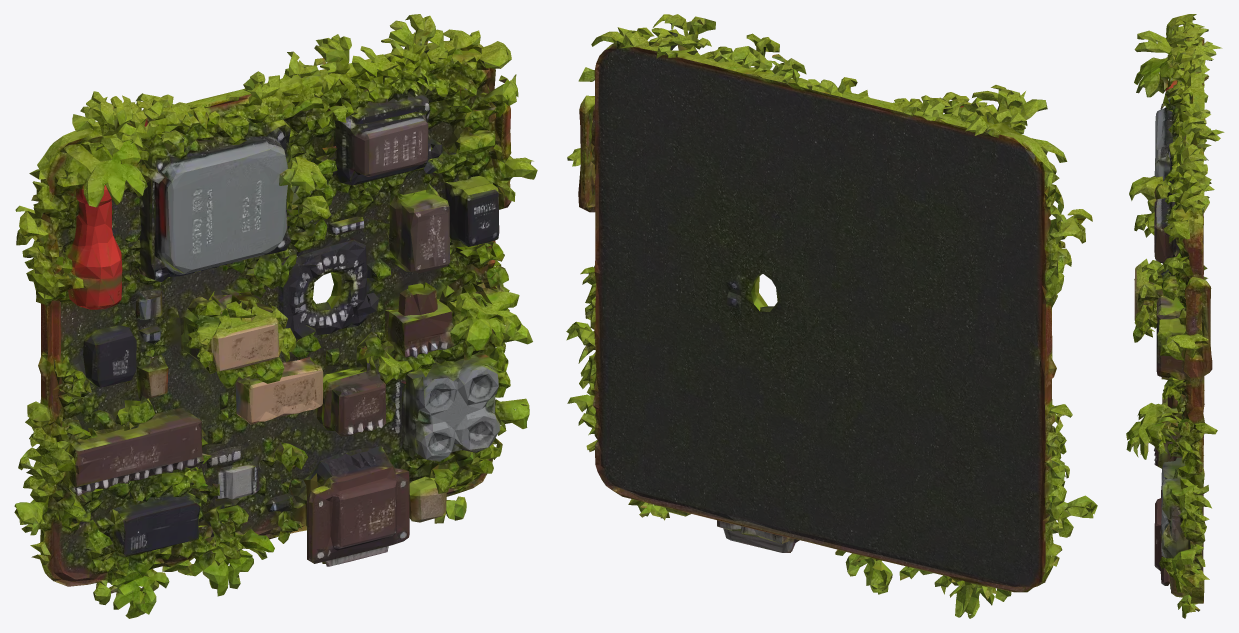
File: head (226).glb
3 views of the same model, side by side, from view 1: azimuth 30°, elevation 25°; view 2: azimuth 150°, elevation 25°; view 3: azimuth 270°, elevation 25° (orthographic). The views are drawn at different scales.
Parts seen in each view (by area): view 1: Hy21_Mesh.obj; view 2: Hy21_Mesh.obj; view 3: Hy21_Mesh.obj.
Boxes of the visible parts, box(x1,y1,x2,y2) form: Hy21_Mesh.obj: box(14, 14, 537, 618); Hy21_Mesh.obj: box(566, 14, 1097, 618); Hy21_Mesh.obj: box(1126, 14, 1224, 618).
Size of the model in its own units: 1.95 by 1.92 by 0.3664.
Materials: 1 (1 with a texture image).
